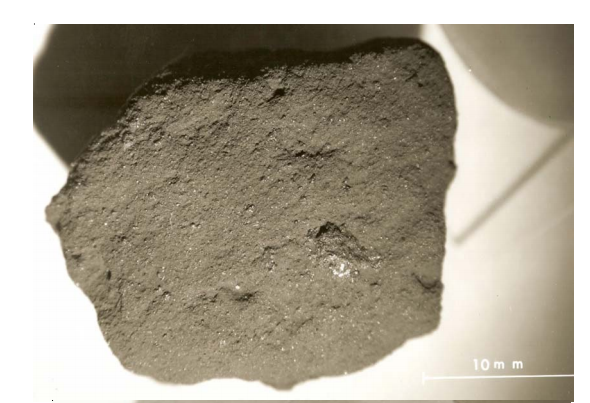Breccia: (22, 36, 455, 385)
